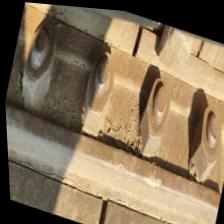person: (86, 6, 182, 88), (77, 190, 123, 224)
